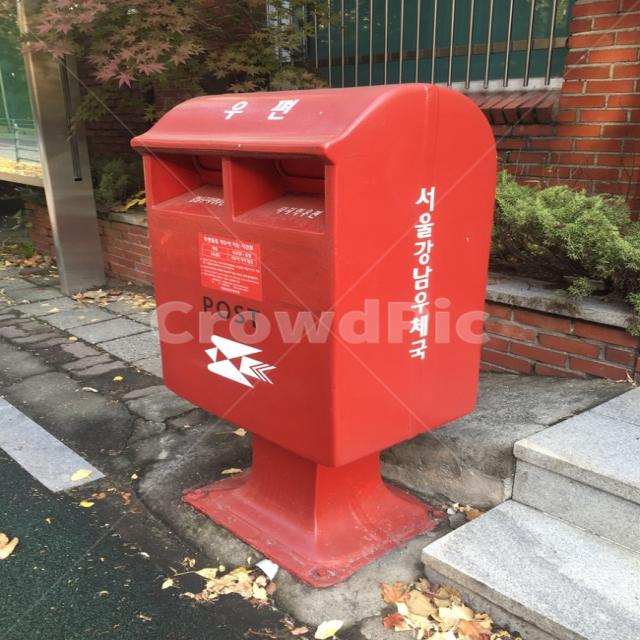Post Box: (131, 79, 505, 592)
